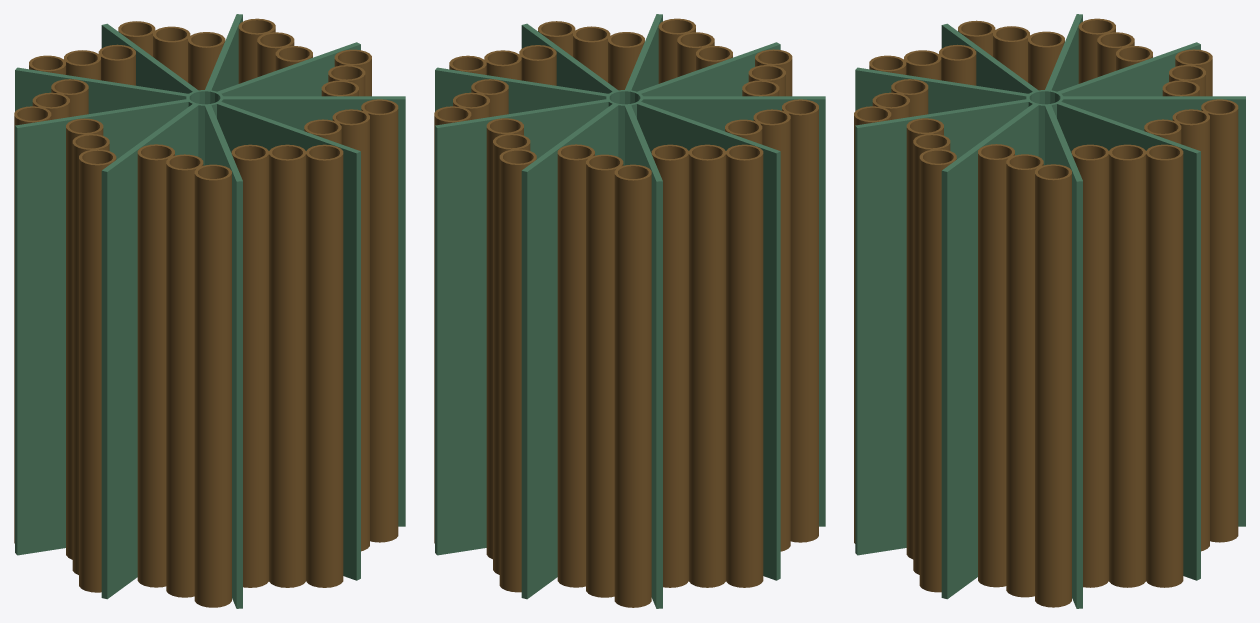
Rendered from Centriole.FBX.
3 views of the same model, side by side, from view 1: azimuth 30°, elevation 25°; view 2: azimuth 150°, elevation 25°; view 3: azimuth 270°, elevation 25° (orthographic).
Visible parts, largest first — view 1: Centriole_Centriole_Cell, Centriole, Centriole_Cell_Microtubule_Triplet_5_Microtubule2, Centriole_Cell_Microtubule_Triplet_6_Microtubule3, Centriole_Cell_Microtubule_Triplet_6_Microtubule2, Centriole_Cell_Microtubule_Triplet_5_Microtubule3, Centriole_Cell_Microtubule_Triplet_4_Microtubule2, Centriole_Cell_Microtubule_Triplet_7_Microtubule3, Centriole_Cell_Microtubule_Triplet_7_Microtubule2, Centriole_Cell_Microtubule_Triplet_1_Microtubule3, Centriole_Cell_Microtubule_Triplet_1_Microtubule2, Centriole_Cell_Microtubule_Triplet_9_Microtubule3 (+8 smaller); view 2: Centriole_Centriole_Cell, Centriole, Centriole_Cell_Microtubule_Triplet_8_Microtubule2, Centriole_Cell_Microtubule_Triplet_9_Microtubule2, Centriole_Cell_Microtubule_Triplet_9_Microtubule3, Centriole_Cell_Microtubule_Triplet_8_Microtubule3, Centriole_Cell_Microtubule_Triplet_7_Microtubule2, Centriole_Cell_Microtubule_Triplet_1_Microtubule2, Centriole_Cell_Microtubule_Triplet_1_Microtubule3, Centriole_Cell_Microtubule_Triplet_4_Microtubule3, Centriole_Cell_Microtubule_Triplet_4_Microtubule2, Centriole_Cell_Microtubule_Triplet_3_Microtubule3 (+8 smaller); view 3: Centriole_Centriole_Cell, Centriole, Centriole_Cell_Microtubule_Triplet_2_Microtubule2, Centriole_Cell_Microtubule_Triplet_3_Microtubule2, Centriole_Cell_Microtubule_Triplet_3_Microtubule3, Centriole_Cell_Microtubule_Triplet_2_Microtubule3, Centriole_Cell_Microtubule_Triplet_1_Microtubule2, Centriole_Cell_Microtubule_Triplet_4_Microtubule3, Centriole_Cell_Microtubule_Triplet_4_Microtubule2, Centriole_Cell_Microtubule_Triplet_7_Microtubule3, Centriole_Cell_Microtubule_Triplet_7_Microtubule2, Centriole_Cell_Microtubule_Triplet_6_Microtubule3 (+8 smaller).
Boxes of the visible parts, <box> form: Centriole_Centriole_Cell: <box>15,14,405,608</box>; Centriole: <box>14,18,398,607</box>; Centriole_Cell_Microtubule_Triplet_5_Microtubule2: <box>269,144,305,587</box>; Centriole_Cell_Microtubule_Triplet_6_Microtubule3: <box>137,144,174,587</box>; Centriole_Cell_Microtubule_Triplet_6_Microtubule2: <box>166,154,203,597</box>; Centriole_Cell_Microtubule_Triplet_5_Microtubule3: <box>231,144,268,587</box>; Centriole_Cell_Microtubule_Triplet_4_Microtubule2: <box>332,109,369,551</box>; Centriole_Cell_Microtubule_Triplet_7_Microtubule3: <box>66,118,103,559</box>; Centriole_Cell_Microtubule_Triplet_7_Microtubule2: <box>72,134,109,574</box>; Centriole_Cell_Microtubule_Triplet_1_Microtubule3: <box>188,32,225,90</box>; Centriole_Cell_Microtubule_Triplet_1_Microtubule2: <box>153,26,190,82</box>; Centriole_Cell_Microtubule_Triplet_9_Microtubule3: <box>98,44,135,85</box>; Centriole_Centriole_Cell: <box>435,14,825,608</box>; Centriole: <box>434,18,818,607</box>; Centriole_Cell_Microtubule_Triplet_8_Microtubule2: <box>689,144,725,587</box>; Centriole_Cell_Microtubule_Triplet_9_Microtubule2: <box>586,154,623,597</box>; Centriole_Cell_Microtubule_Triplet_9_Microtubule3: <box>557,144,594,587</box>; Centriole_Cell_Microtubule_Triplet_8_Microtubule3: <box>651,144,688,587</box>; Centriole_Cell_Microtubule_Triplet_7_Microtubule2: <box>753,109,790,551</box>; Centriole_Cell_Microtubule_Triplet_1_Microtubule2: <box>493,133,530,574</box>; Centriole_Cell_Microtubule_Triplet_1_Microtubule3: <box>486,118,523,559</box>; Centriole_Cell_Microtubule_Triplet_4_Microtubule3: <box>608,32,644,90</box>; Centriole_Cell_Microtubule_Triplet_4_Microtubule2: <box>573,26,610,82</box>; Centriole_Cell_Microtubule_Triplet_3_Microtubule3: <box>519,45,556,85</box>; Centriole_Centriole_Cell: <box>855,14,1245,608</box>; Centriole: <box>854,18,1238,607</box>; Centriole_Cell_Microtubule_Triplet_2_Microtubule2: <box>1109,144,1145,587</box>; Centriole_Cell_Microtubule_Triplet_3_Microtubule2: <box>1006,154,1043,597</box>; Centriole_Cell_Microtubule_Triplet_3_Microtubule3: <box>978,144,1014,587</box>; Centriole_Cell_Microtubule_Triplet_2_Microtubule3: <box>1071,144,1108,587</box>; Centriole_Cell_Microtubule_Triplet_1_Microtubule2: <box>1172,109,1209,551</box>; Centriole_Cell_Microtubule_Triplet_4_Microtubule3: <box>906,118,943,559</box>; Centriole_Cell_Microtubule_Triplet_4_Microtubule2: <box>913,133,950,574</box>; Centriole_Cell_Microtubule_Triplet_7_Microtubule3: <box>1028,31,1064,90</box>; Centriole_Cell_Microtubule_Triplet_7_Microtubule2: <box>993,26,1029,82</box>; Centriole_Cell_Microtubule_Triplet_6_Microtubule3: <box>939,44,976,85</box>.
Bounding box in the file's own units: 10.94 × 13 × 10.8.
